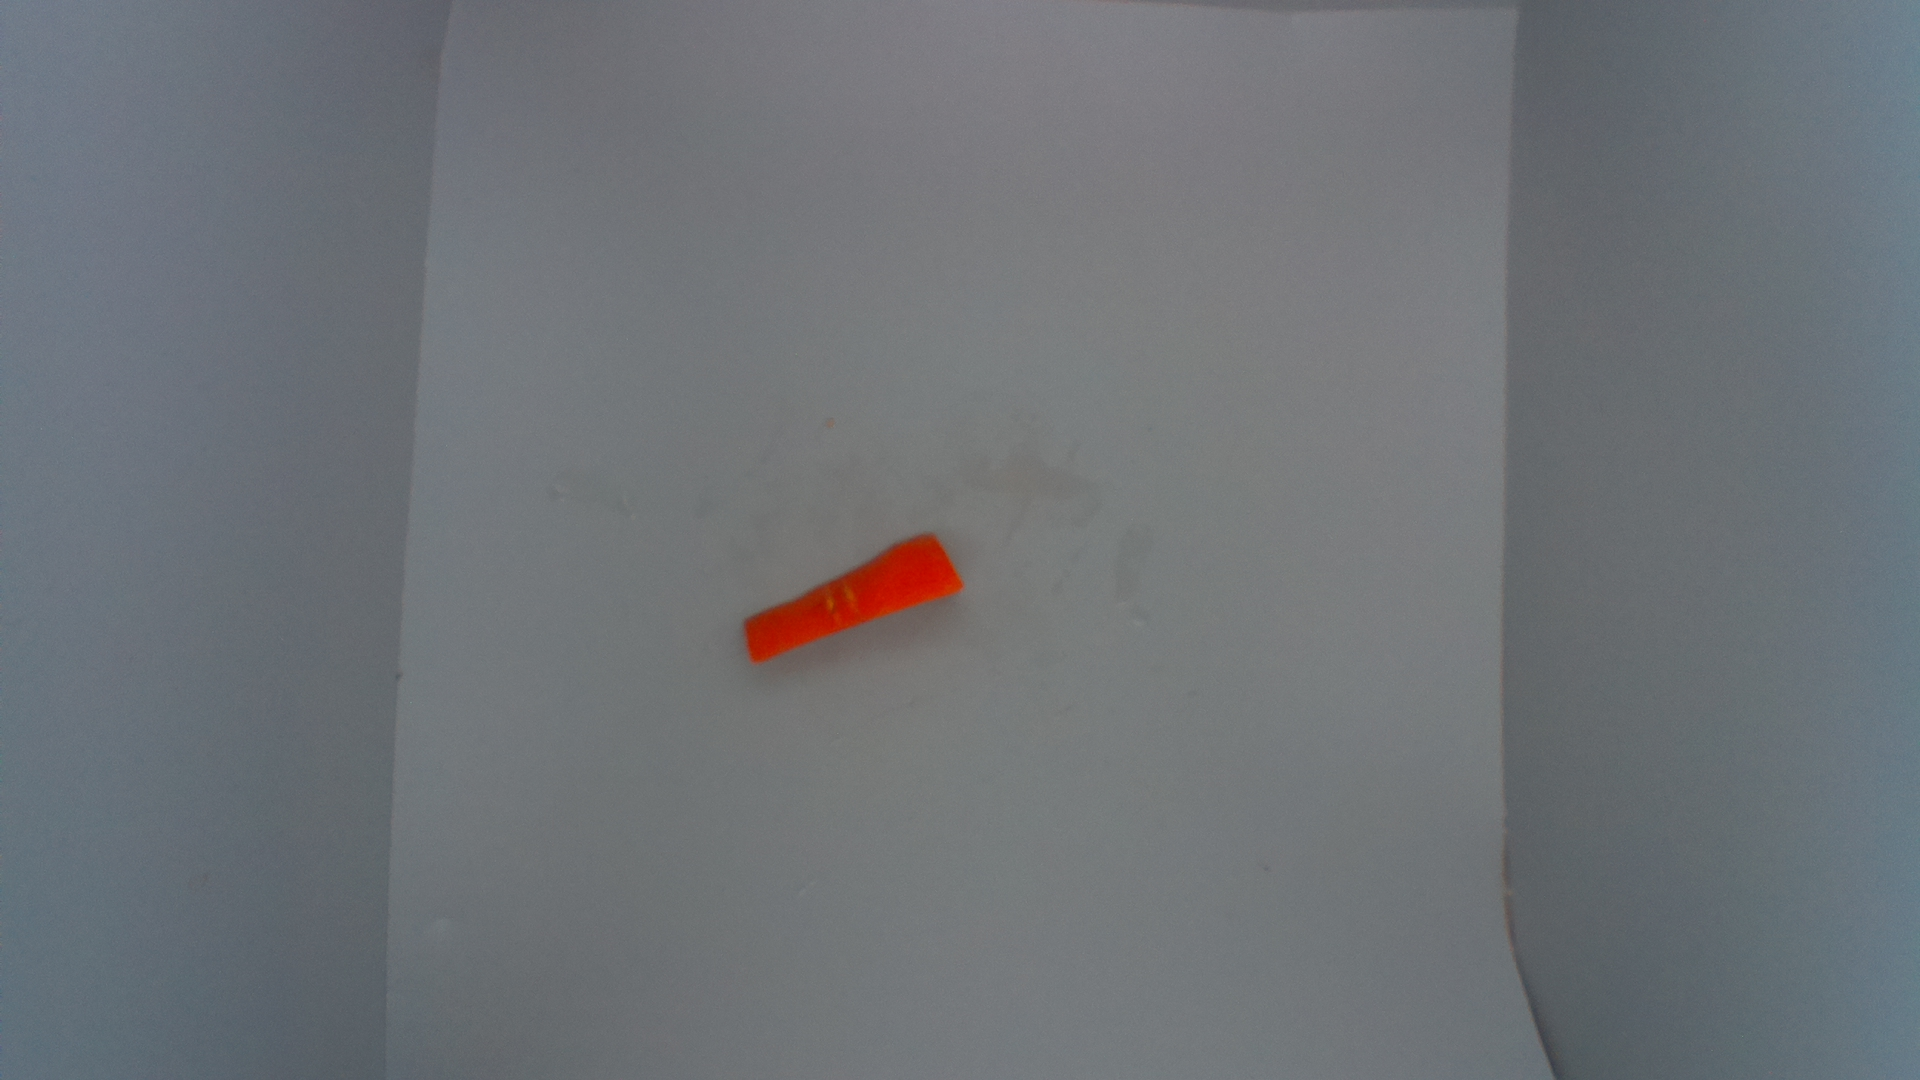carrot: (745, 534, 967, 669)
